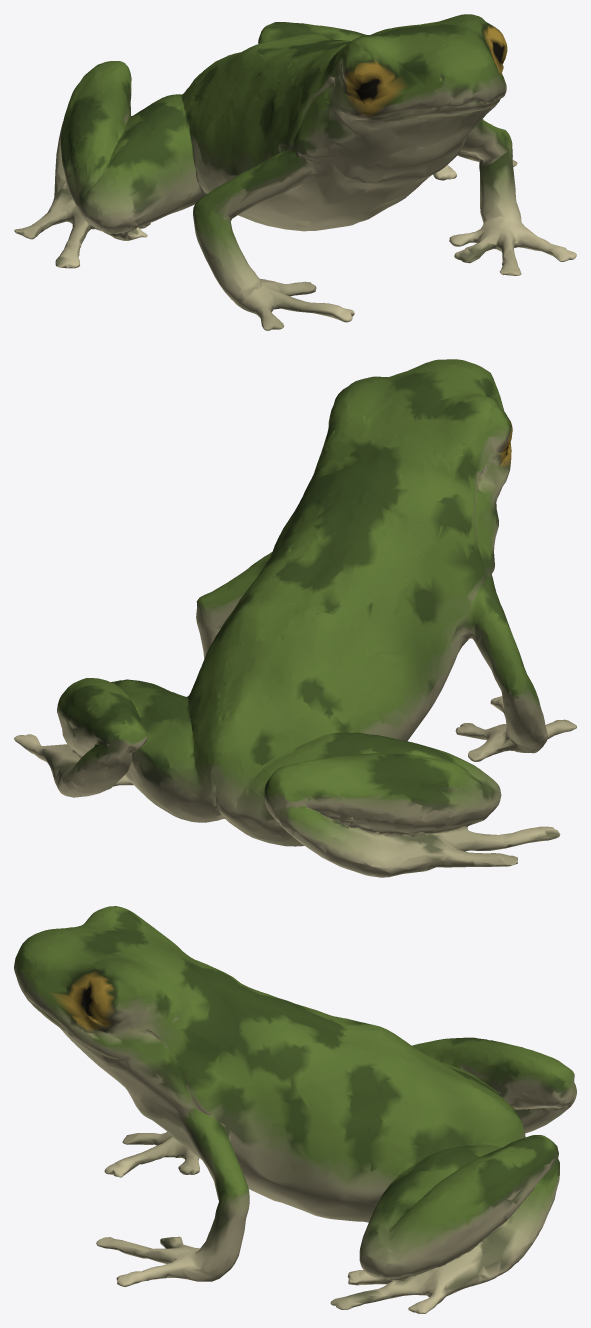
The model's file is frog.glb.
3 renders of one model, top to bottom at view 1: azimuth 30°, elevation 25°; view 2: azimuth 150°, elevation 25°; view 3: azimuth 270°, elevation 25°, orthographic. The views are drawn at different scales.
Bounding box in the file's own units: 0.9728 × 0.549 × 1.
